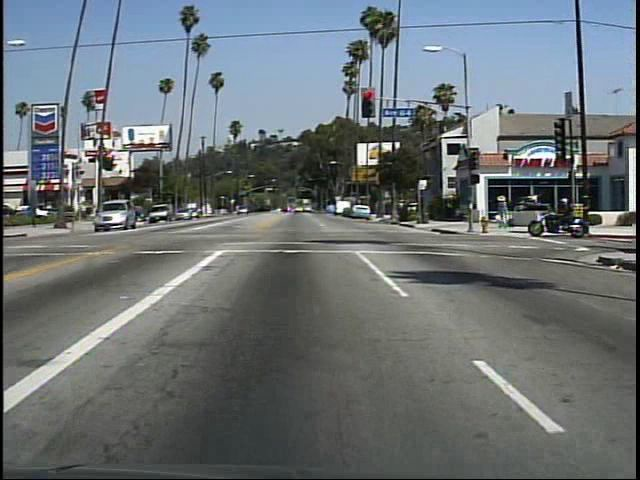person: (548, 194, 574, 234), (491, 189, 508, 230)
